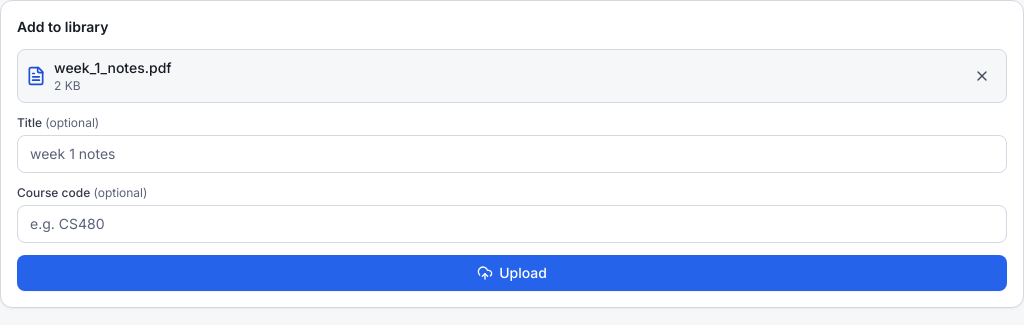
DocumentUpload › uploads with a derived title and normalised course code
Earlier steps of the test are not shown.
In the field labelled "Course code (optional)": (512, 224) x1=17 y1=205 x2=1007 y2=243, type " cs480 "
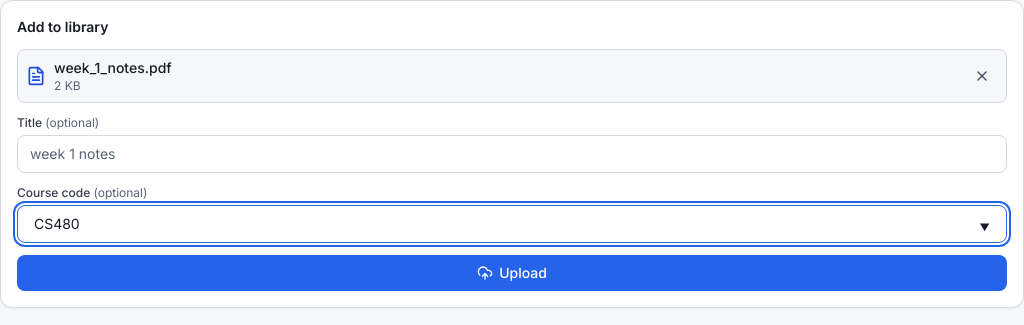
Click the button "Upload": (512, 273) x1=17 y1=255 x2=1007 y2=291
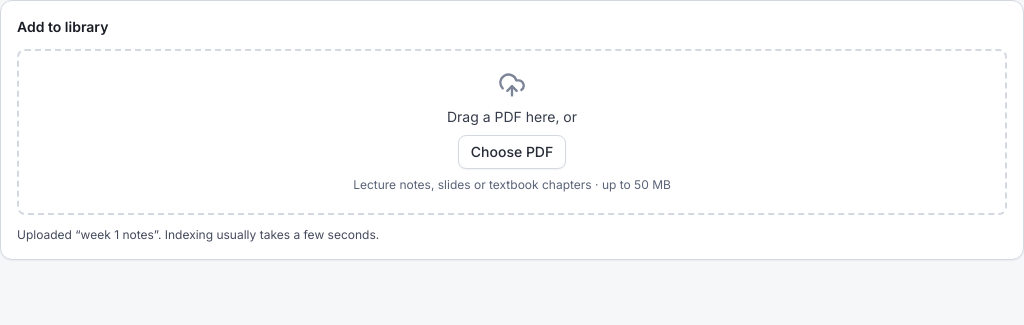
Expected: the message shows "Uploaded “week 1 notes”", x1=17 y1=227 x2=379 y2=242
